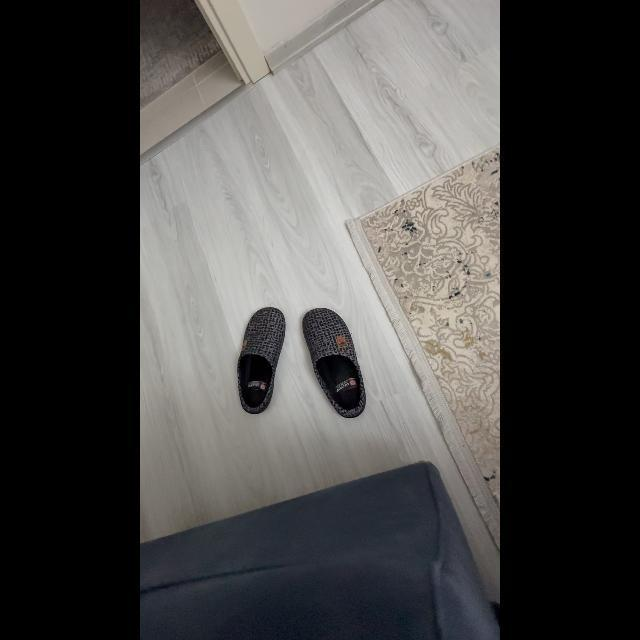slipper: (300, 300, 368, 424), (233, 302, 299, 421)
